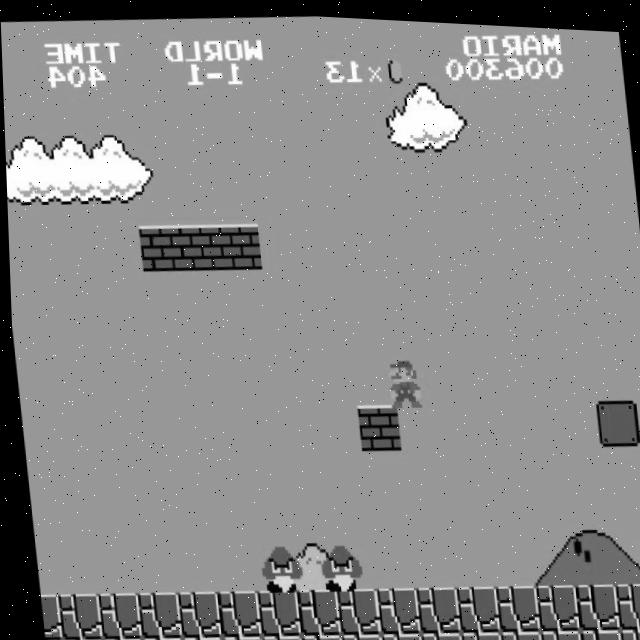1- brick_block: (353, 398, 399, 449), (216, 219, 261, 269), (176, 220, 221, 270), (136, 221, 181, 271)
11- little_mario: (379, 352, 426, 404)
17- undestructible_block: (530, 576, 576, 627), (570, 576, 616, 626), (491, 578, 536, 629), (411, 580, 456, 631), (371, 581, 416, 632), (331, 582, 376, 633), (212, 586, 257, 637), (172, 587, 217, 638), (132, 588, 177, 639), (92, 589, 137, 640), (451, 579, 496, 629), (292, 584, 337, 634), (252, 585, 297, 635), (53, 590, 98, 640), (610, 574, 640, 625), (36, 592, 58, 640), (574, 621, 618, 640), (534, 622, 578, 640), (495, 623, 538, 640), (455, 624, 498, 640), (415, 626, 459, 640), (375, 627, 419, 640), (335, 628, 379, 640), (295, 628, 339, 640), (614, 620, 640, 640), (255, 630, 299, 640), (216, 631, 260, 640), (176, 632, 220, 640), (136, 634, 180, 640), (96, 634, 140, 640), (56, 636, 100, 640)
3- empty_block: (592, 391, 637, 442)
8- goomba: (314, 537, 362, 591), (255, 538, 302, 592)
